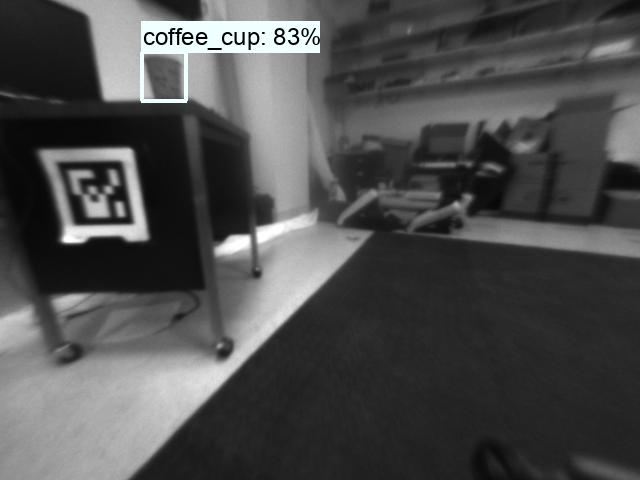coffee_cup: (137, 52, 187, 101)
